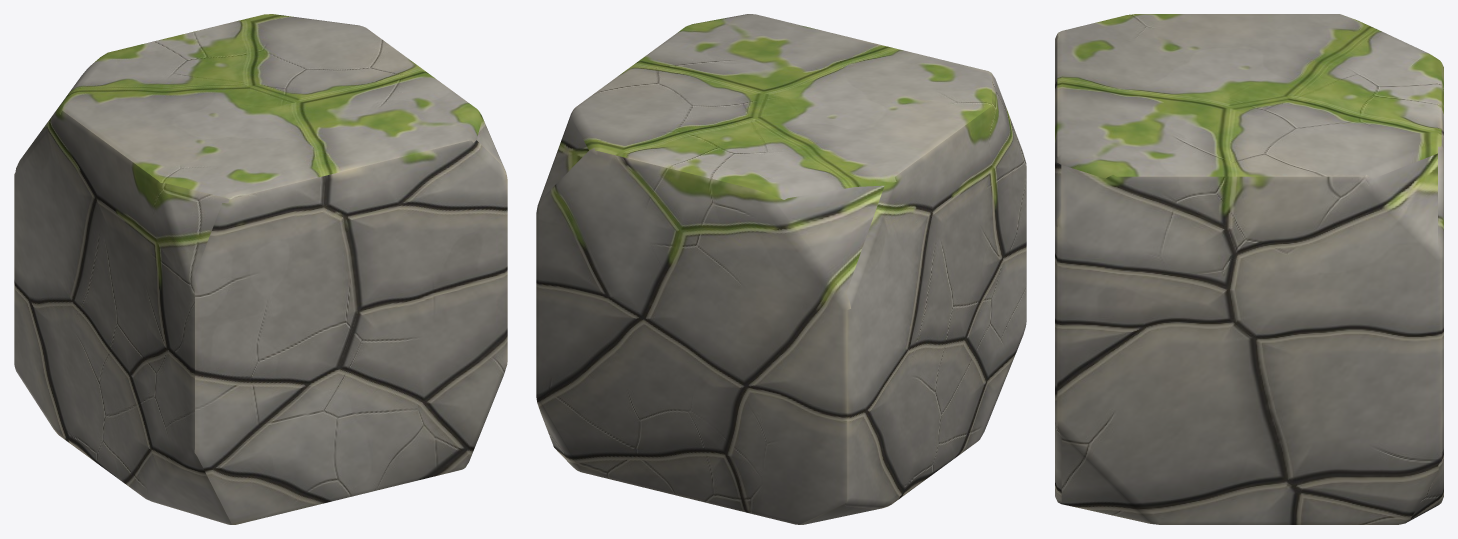
Rendered from rock_medium_b.glb.
The picture shows the model from 3 angles, left to right: view 1: azimuth 30°, elevation 25°; view 2: azimuth 150°, elevation 25°; view 3: azimuth 270°, elevation 25°; orthographic projection. The views are drawn at different scales.
Parts seen in each view (by area): view 1: Rock_medium_b; view 2: Rock_medium_b; view 3: Rock_medium_b.
Boxes of the visible parts, left/top/right/bottom form: Rock_medium_b: left=14, top=14, right=507, bottom=524; Rock_medium_b: left=536, top=14, right=1026, bottom=524; Rock_medium_b: left=1055, top=14, right=1443, bottom=524.
Bounding box in the file's own units: 1 × 1 × 1.
Materials: 1 (1 with a texture image).
